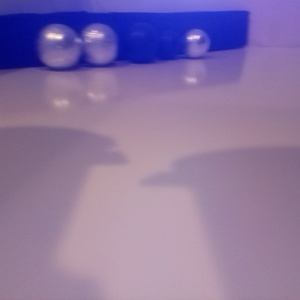alive_ball: (62, 27, 133, 101)
